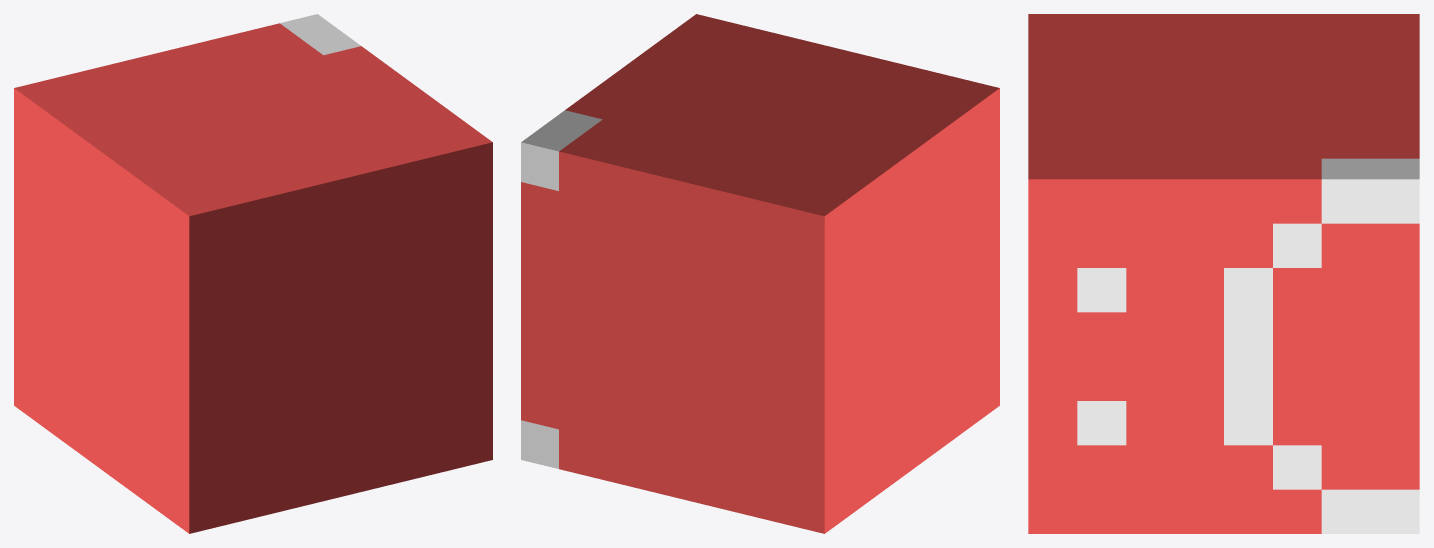
File: madcube.obj
3 views of the same model, side by side, from view 1: azimuth 30°, elevation 25°; view 2: azimuth 150°, elevation 25°; view 3: azimuth 270°, elevation 25° (orthographic). The views are drawn at different scales.
Size of the model in its own units: 64 by 64 by 64.
